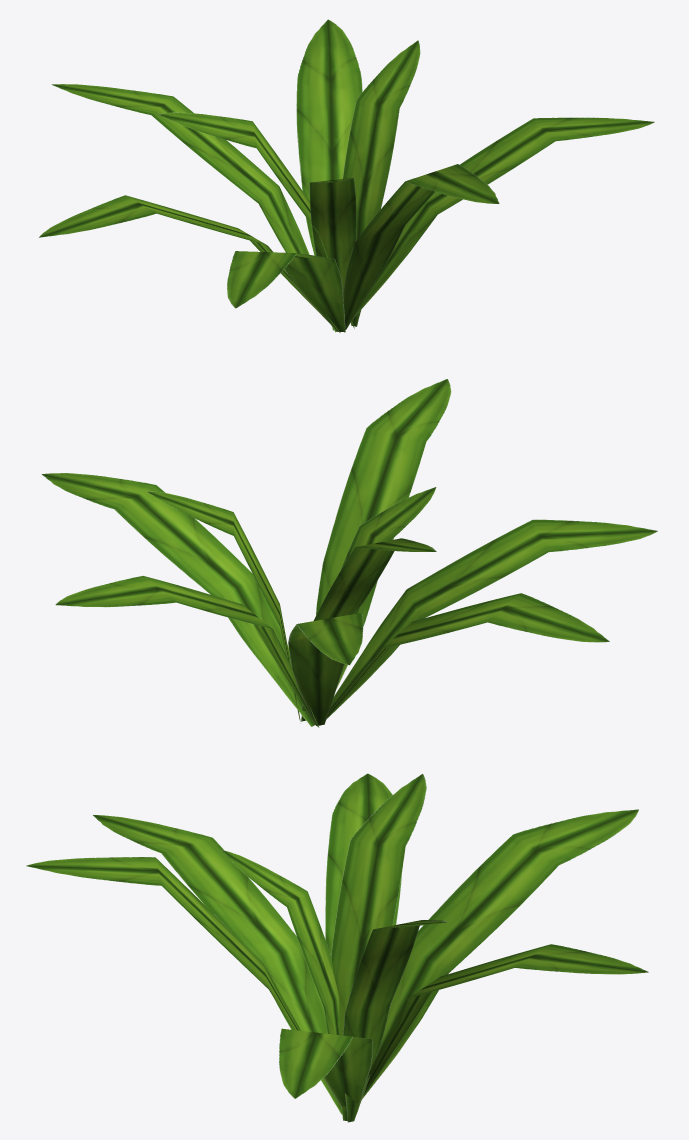
File: Leaves.FBX
3 views of the same model, one above another, from view 1: azimuth 30°, elevation 25°; view 2: azimuth 150°, elevation 25°; view 3: azimuth 270°, elevation 25° (orthographic). The views are drawn at different scales.
Visible parts, largest first — view 1: Leaves; view 2: Leaves; view 3: Leaves.
Part boxes in pixels (left/top/right/bottom): Leaves: left=39, top=19, right=654, bottom=332; Leaves: left=41, top=379, right=657, bottom=727; Leaves: left=26, top=773, right=648, bottom=1122.
Bounding box in the file's own units: 142 × 53.05 × 120.
1 material, 1 textured.
